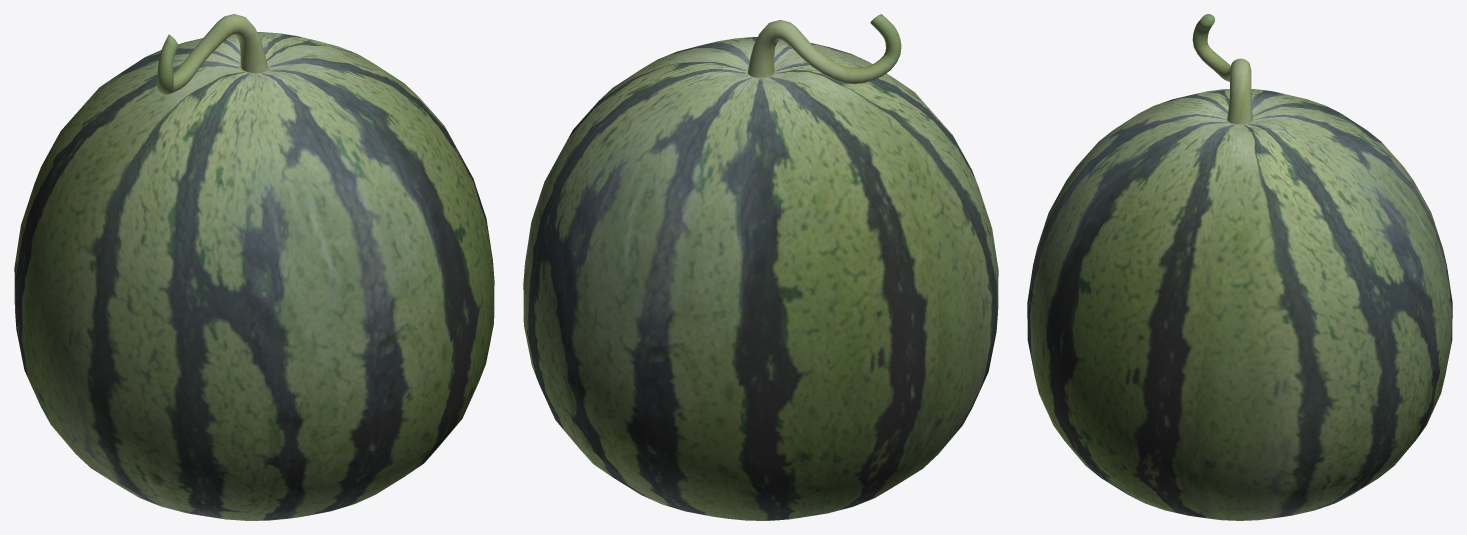
Rendered from Watermelon01.fbx.
3 renders of one model, left to right at view 1: azimuth 30°, elevation 25°; view 2: azimuth 150°, elevation 25°; view 3: azimuth 270°, elevation 25°, orthographic. The views are drawn at different scales.
Visible parts, largest first — view 1: Watermelon01; view 2: Watermelon01; view 3: Watermelon01.
Part boxes in pixels (bbox=[...]): Watermelon01: bbox=[14, 14, 494, 520]; Watermelon01: bbox=[523, 14, 998, 520]; Watermelon01: bbox=[1027, 14, 1452, 520].
Bounding box in the file's own units: 30.16 × 34.22 × 30.16.
